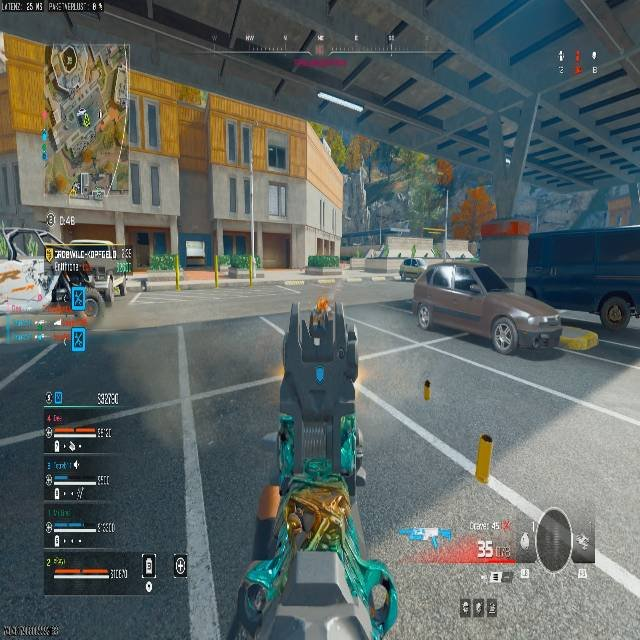player: (41, 243, 124, 352)
